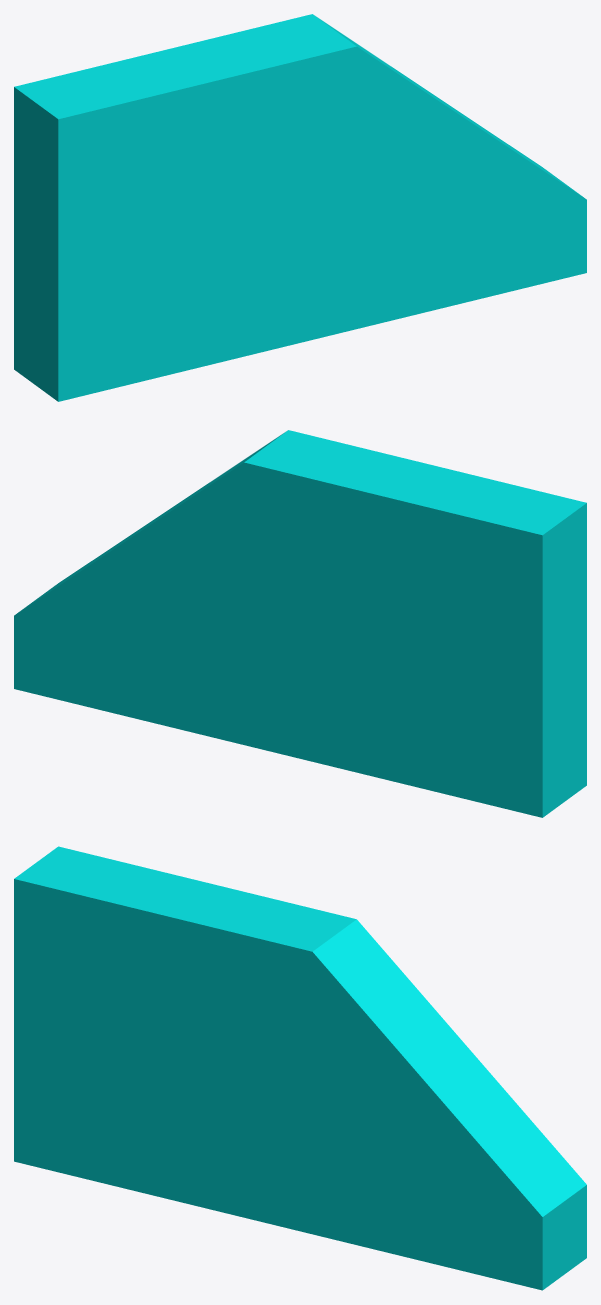
The model's file is SM_Bld_Battlements_Damaged_02_Collision.fbx.
3 views of the same model, one above another, from view 1: azimuth 30°, elevation 25°; view 2: azimuth 150°, elevation 25°; view 3: azimuth 330°, elevation 25° (orthographic).
Visible parts, largest first — view 1: SM_Bld_Battlements_Damaged_02_Collision; view 2: SM_Bld_Battlements_Damaged_02_Collision; view 3: SM_Bld_Battlements_Damaged_02_Collision.
Part boxes in pixels (x1,y1,x2,y2): SM_Bld_Battlements_Damaged_02_Collision: (14,14,586,401); SM_Bld_Battlements_Damaged_02_Collision: (14,430,586,817); SM_Bld_Battlements_Damaged_02_Collision: (14,846,586,1290).
Size of the model in its own units: 273 by 140 by 39.73.
